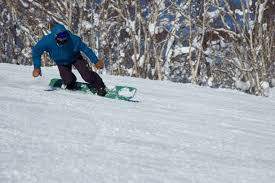snowboarder: (18, 18, 147, 114)
